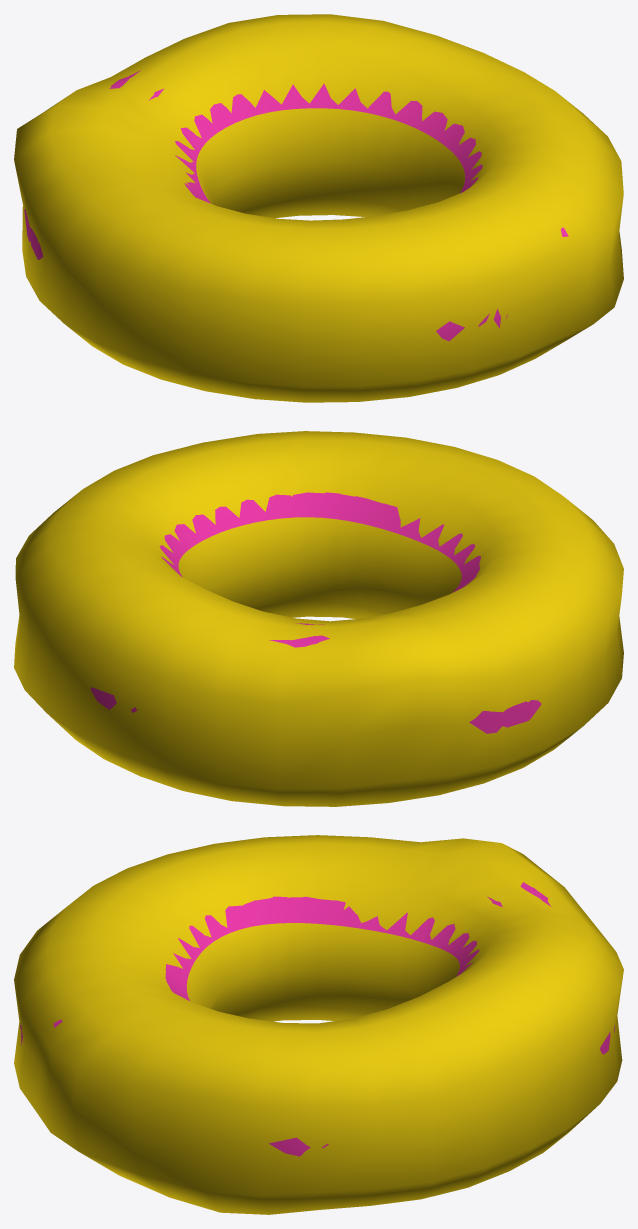
File: donut.glb
3 views of the same model, one above another, from view 1: azimuth 30°, elevation 25°; view 2: azimuth 150°, elevation 25°; view 3: azimuth 270°, elevation 25° (orthographic).
Parts seen in each view (by area): view 1: icing, donut; view 2: icing, donut; view 3: icing, donut.
Boxes of the visible parts, box(x1,y1,x2,y2) form: icing: box(14, 14, 623, 402); donut: box(24, 70, 568, 341); icing: box(14, 431, 623, 806); donut: box(90, 492, 541, 733); icing: box(14, 835, 623, 1214); donut: box(20, 882, 614, 1156).
Size of the model in its own units: 2.77 by 0.9854 by 2.78.
